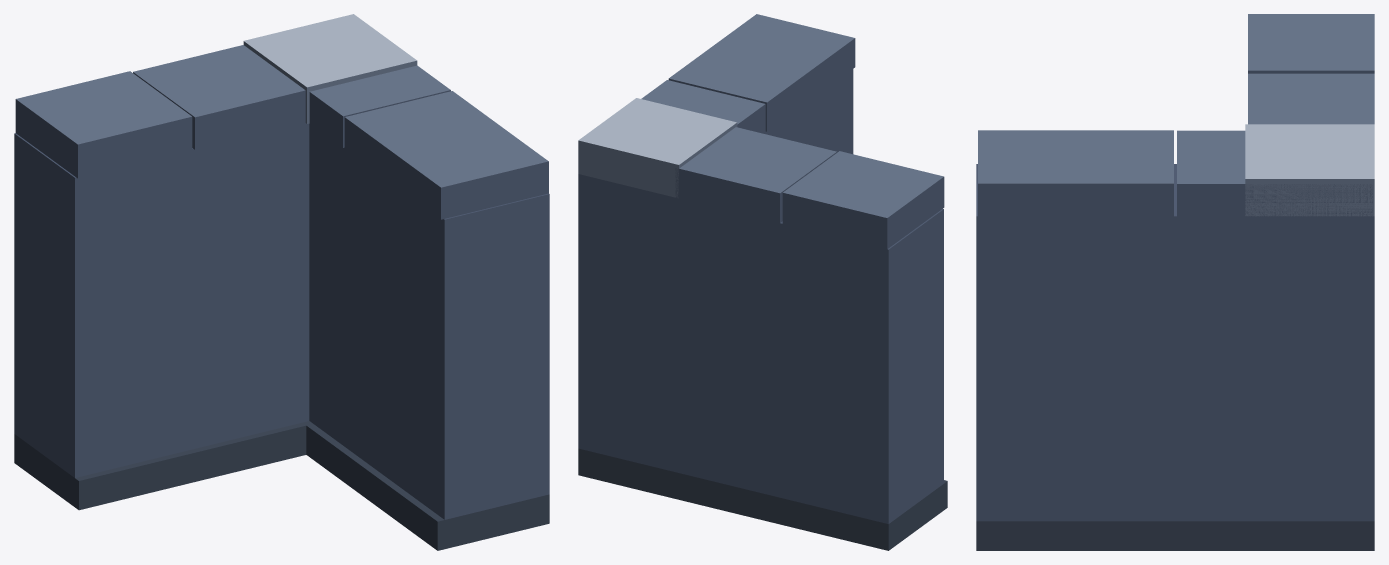
Rendered from kit_wall_stone_corner.glb.
The picture shows the model from 3 angles, left to right: view 1: azimuth 30°, elevation 25°; view 2: azimuth 150°, elevation 25°; view 3: azimuth 270°, elevation 25°; orthographic projection. The views are drawn at different scales.
Visible parts, largest first — view 1: kit_wall_stone_corner; view 2: kit_wall_stone_corner; view 3: kit_wall_stone_corner.
Boxes of the visible parts, x1,y1,x2,y2 form: kit_wall_stone_corner: (14, 14, 549, 550); kit_wall_stone_corner: (578, 14, 947, 550); kit_wall_stone_corner: (976, 14, 1374, 550).
Size of the model in its own units: 0.97 by 1 by 0.97.
1 material, 1 textured.
